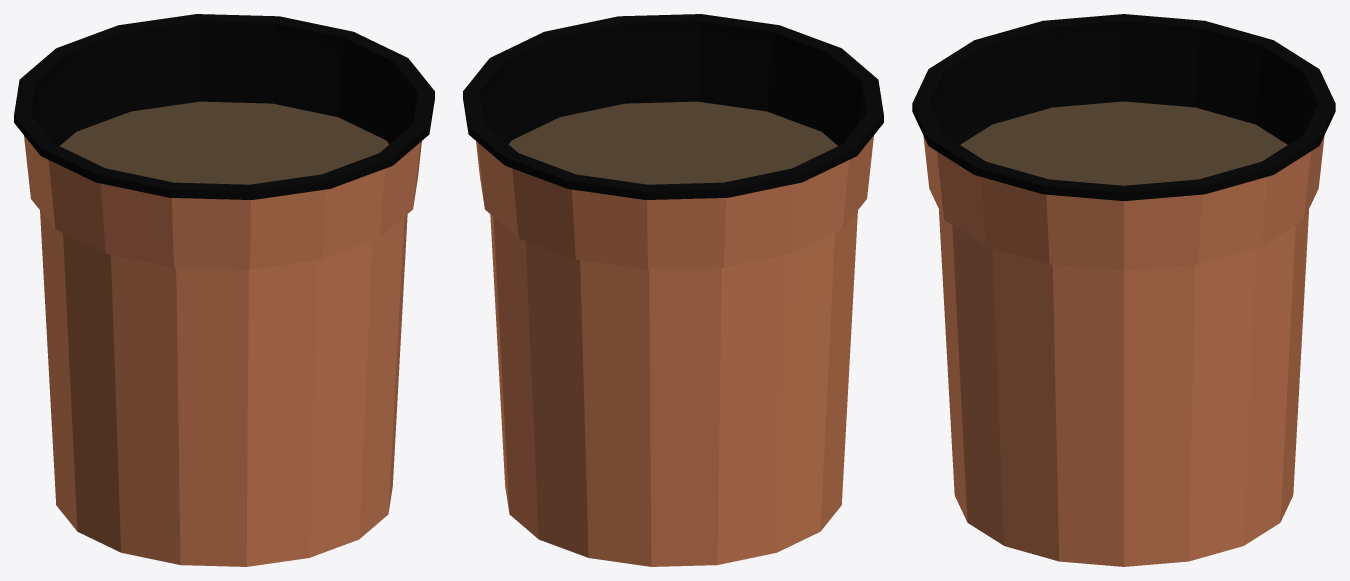
The model's file is pot_3.fbx.
3 renders of one model, left to right at view 1: azimuth 30°, elevation 25°; view 2: azimuth 150°, elevation 25°; view 3: azimuth 270°, elevation 25°, orthographic.
Parts seen in each view (by area): view 1: pot; view 2: pot; view 3: pot.
Boxes of the visible parts, bbox=[...] form: pot: bbox=[14, 14, 434, 566]; pot: bbox=[463, 14, 883, 566]; pot: bbox=[912, 14, 1335, 566].
Bounding box in the file's own units: 250 × 255 × 250.
